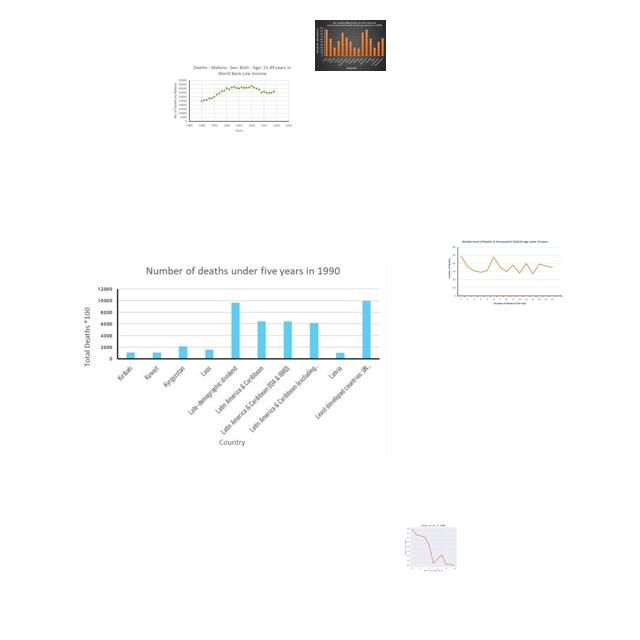Graph: (76, 261, 388, 457), (170, 63, 294, 135), (445, 238, 565, 309), (315, 20, 386, 71), (398, 521, 467, 573)
